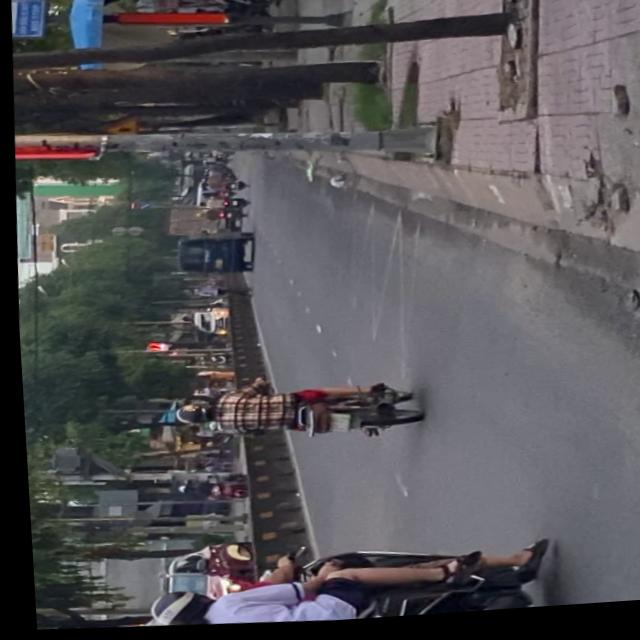helmet: (140, 589, 205, 629), (168, 404, 208, 429), (132, 616, 197, 629)
licenseplate: (121, 532, 566, 635), (162, 374, 418, 456)
nohelmet: (321, 417, 343, 437)
